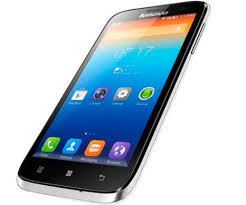lenovo: (18, 1, 208, 205)
